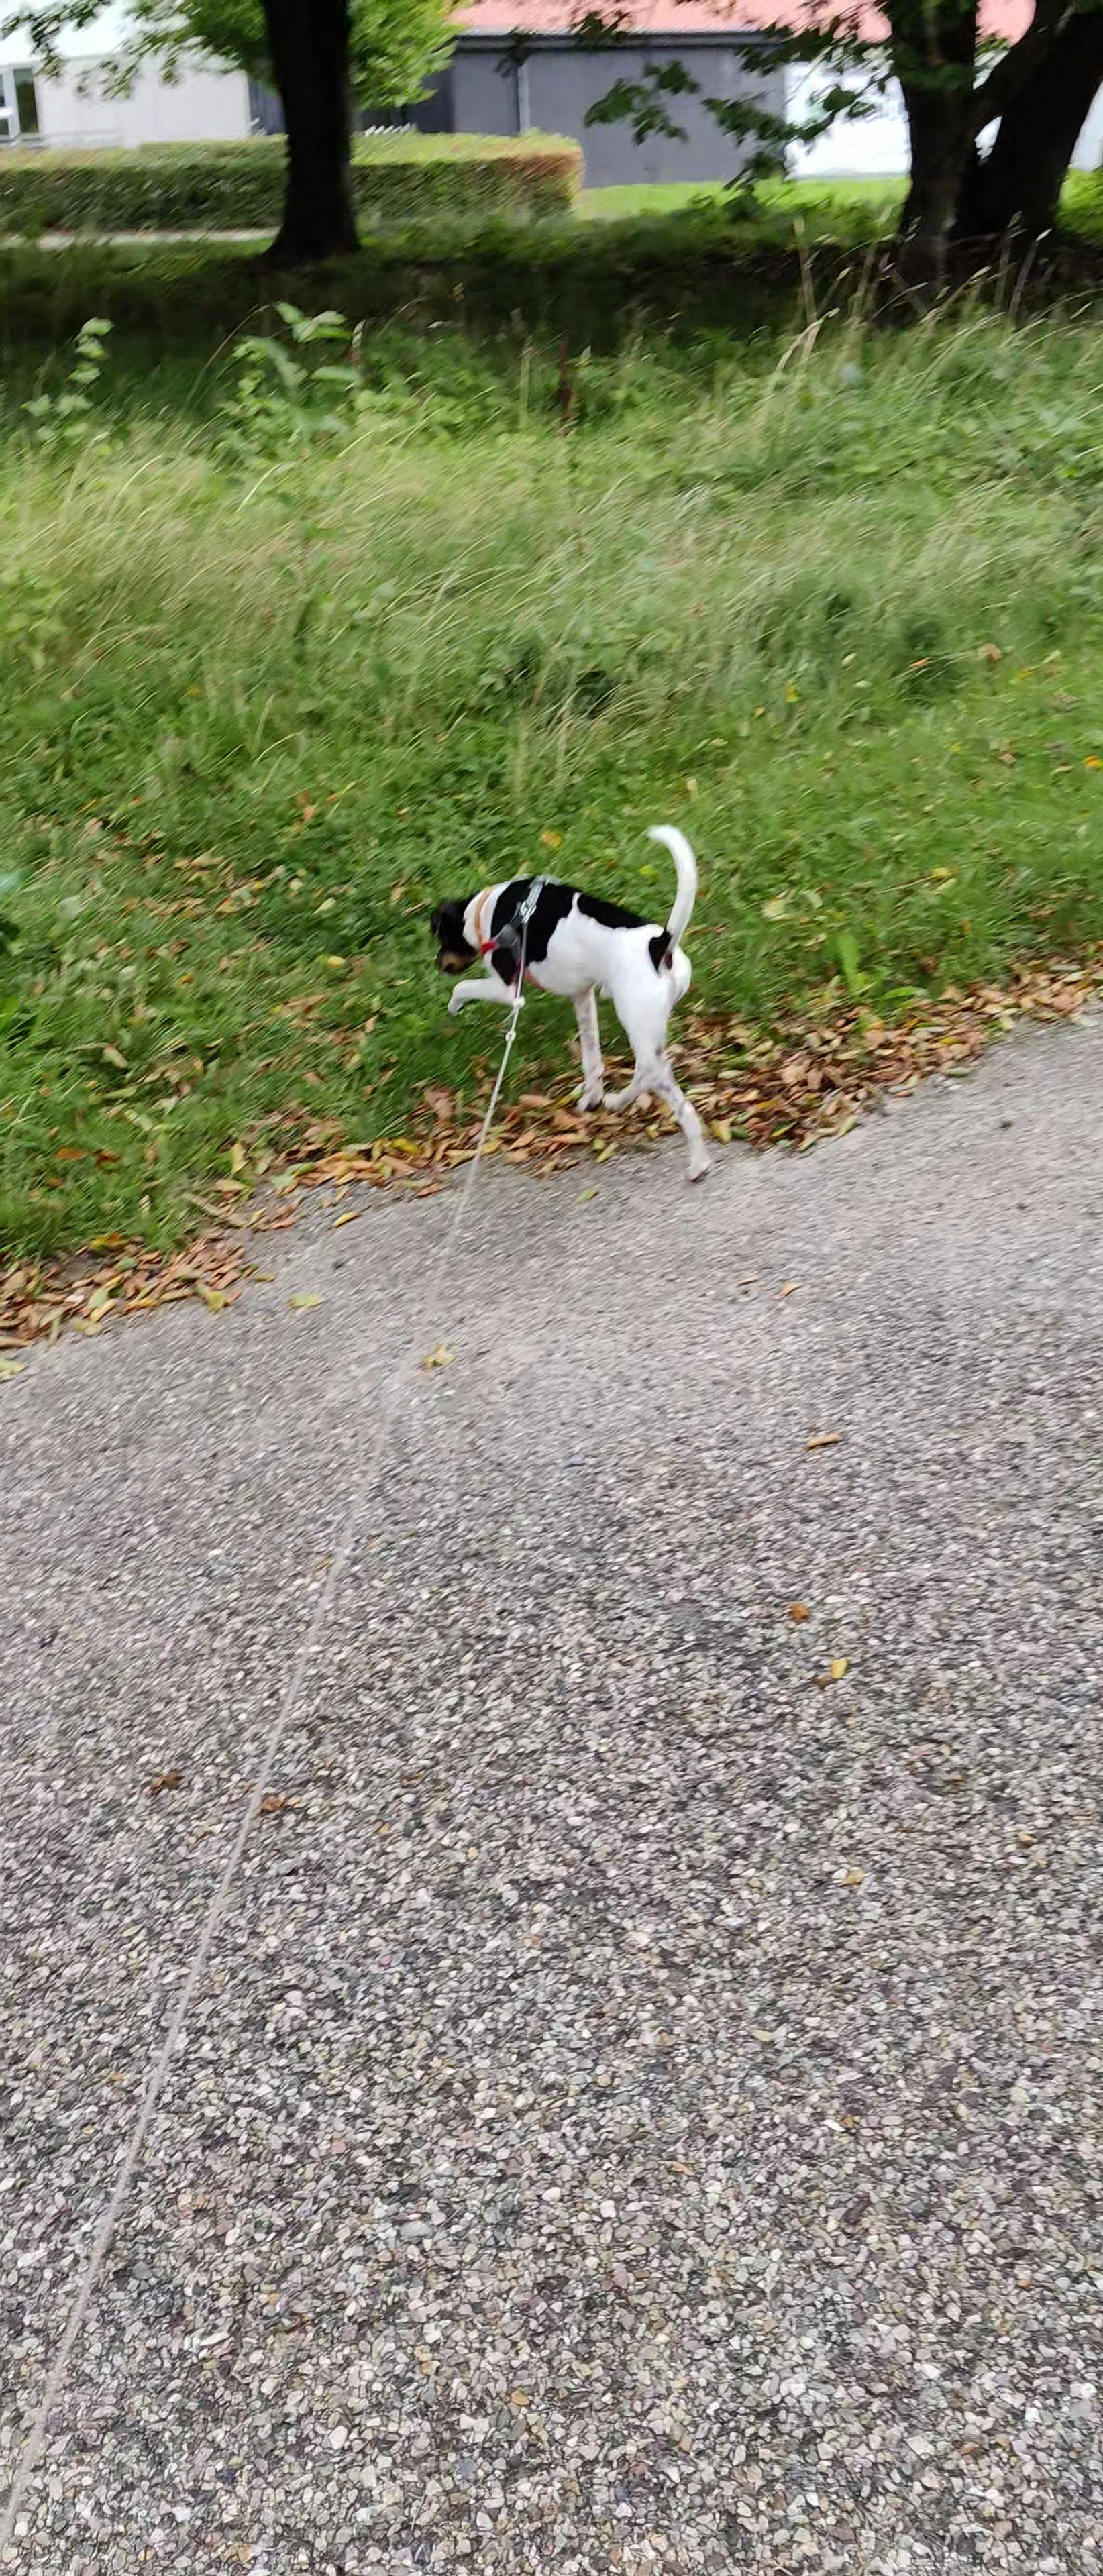Dog: (422, 818, 715, 1189)
